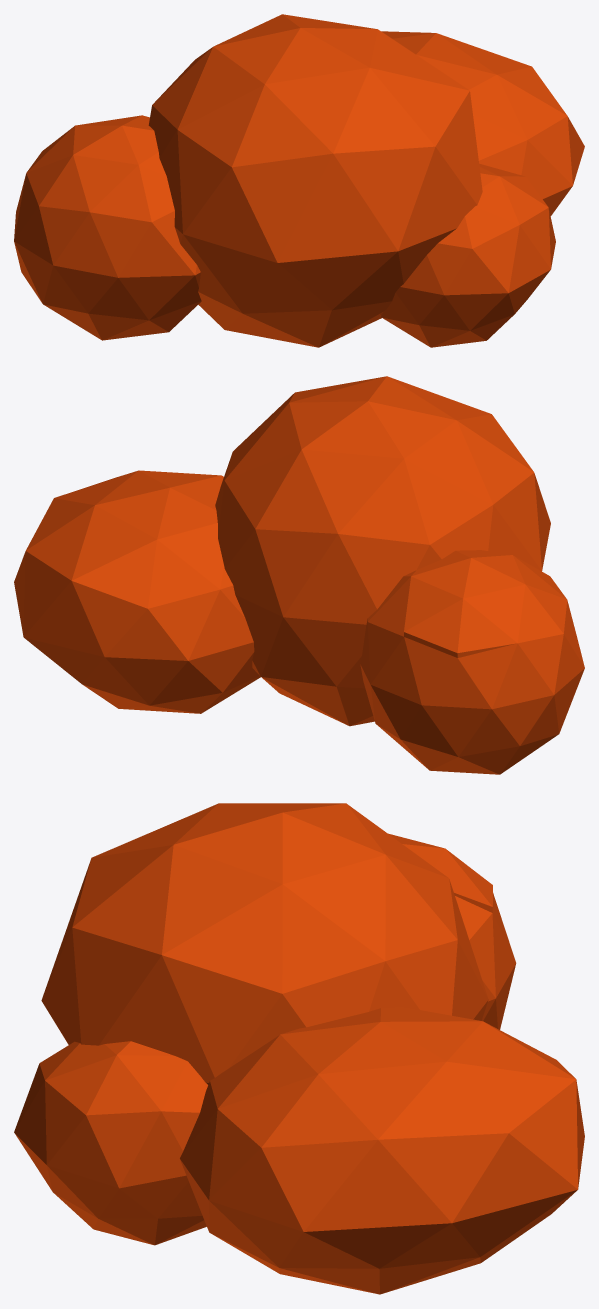
Rendered from Bush.fbx.
3 renders of one model, top to bottom at view 1: azimuth 30°, elevation 25°; view 2: azimuth 150°, elevation 25°; view 3: azimuth 270°, elevation 25°, orthographic. The views are drawn at different scales.
Parts seen in each view (by area): view 1: Bush; view 2: Bush; view 3: Bush.
Part boxes in pixels (x1,y1,x2,y2): Bush: (14,14,584,347); Bush: (14,376,584,774); Bush: (14,803,584,1294).
Size of the model in its own units: 1507 by 780 by 1142.
